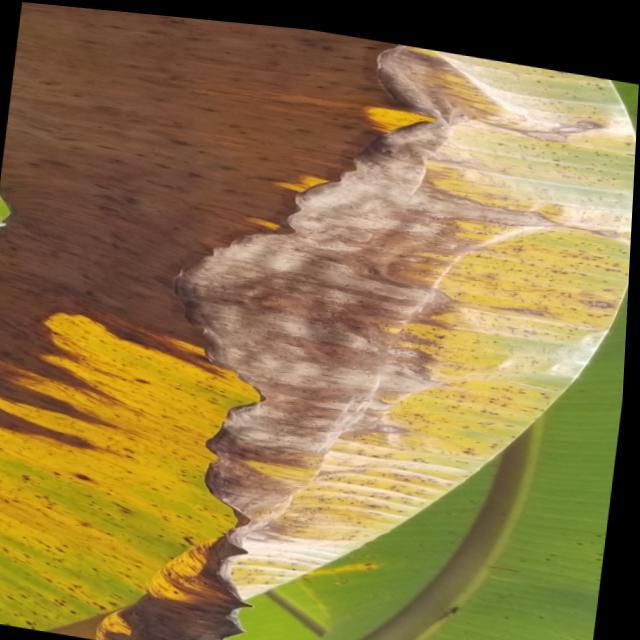Early_rust: (0, 5, 633, 630)
